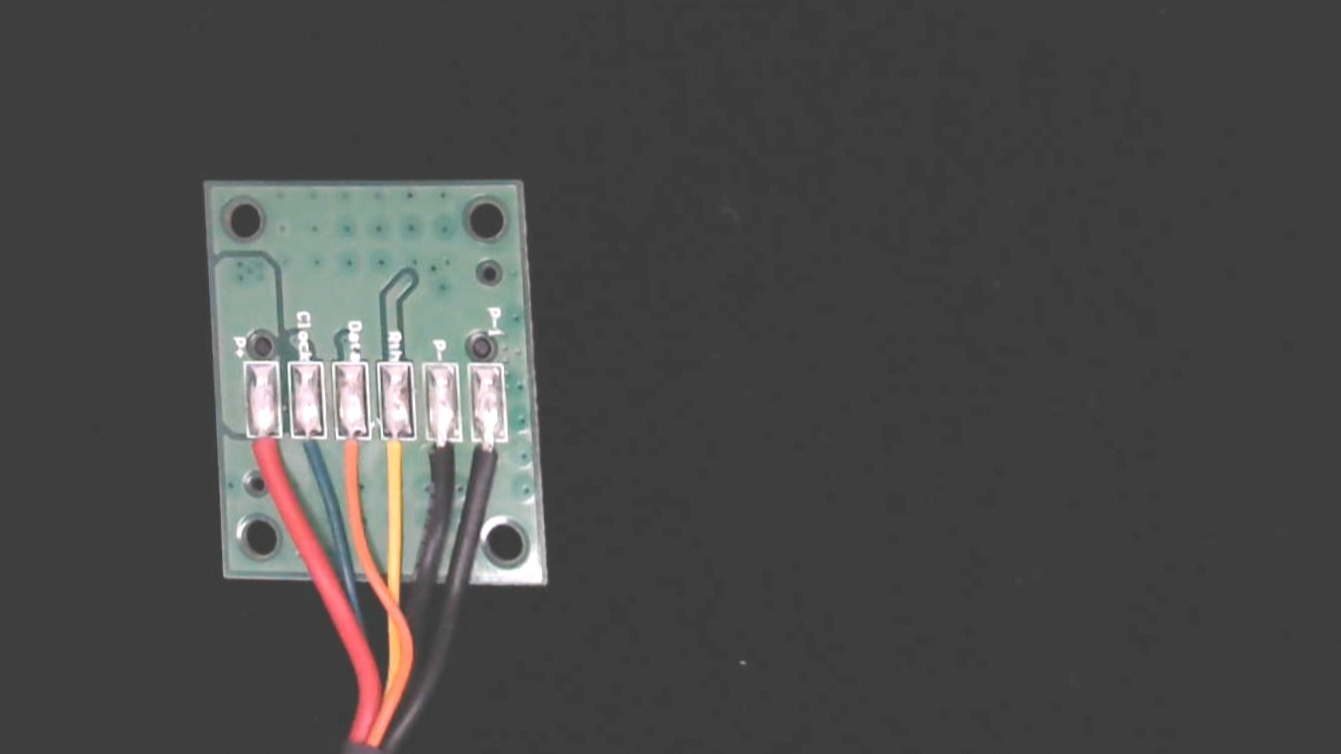Black: (424, 418, 463, 500)
Black1: (472, 421, 515, 504)
Green: (289, 411, 327, 487)
Orange: (334, 414, 372, 490)
Red: (243, 411, 285, 496)
Yellow: (381, 416, 416, 501)
